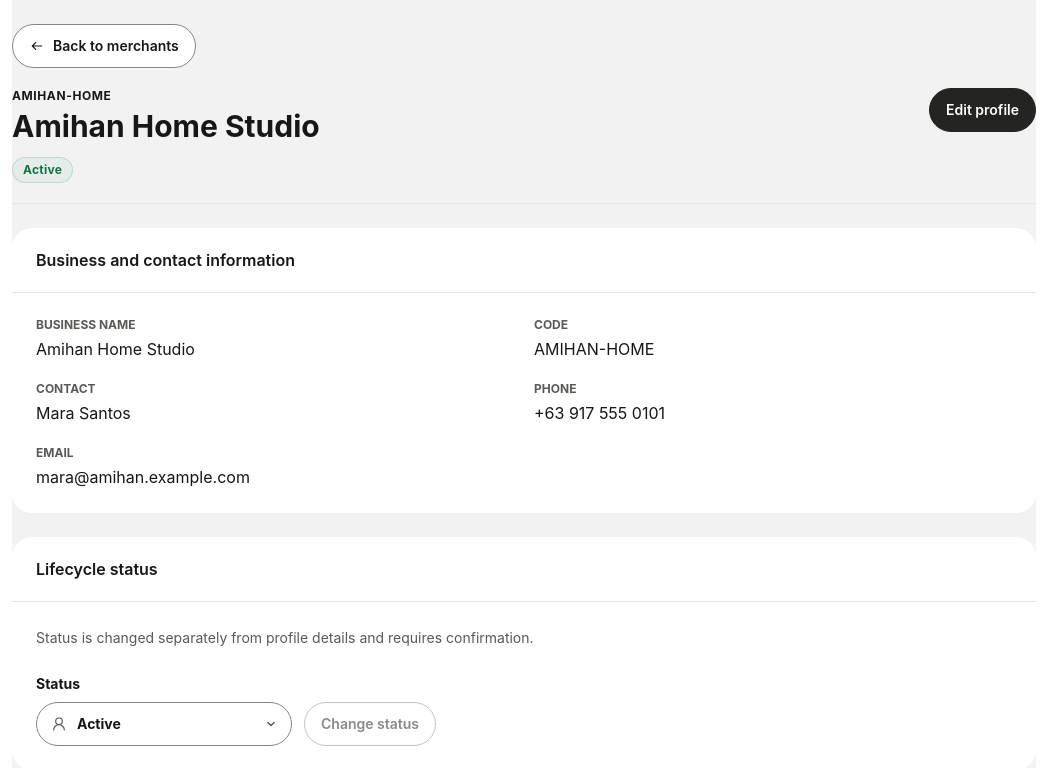
Scenario: MerchantProfile › displays profile information and opens profile editing
Check: the text "Mara Santos" is shown, box x1=36 y1=403 x2=131 y2=423
Step 1. Click the button "Edit profile" → (982,110), box x1=929 y1=88 x2=1036 y2=132
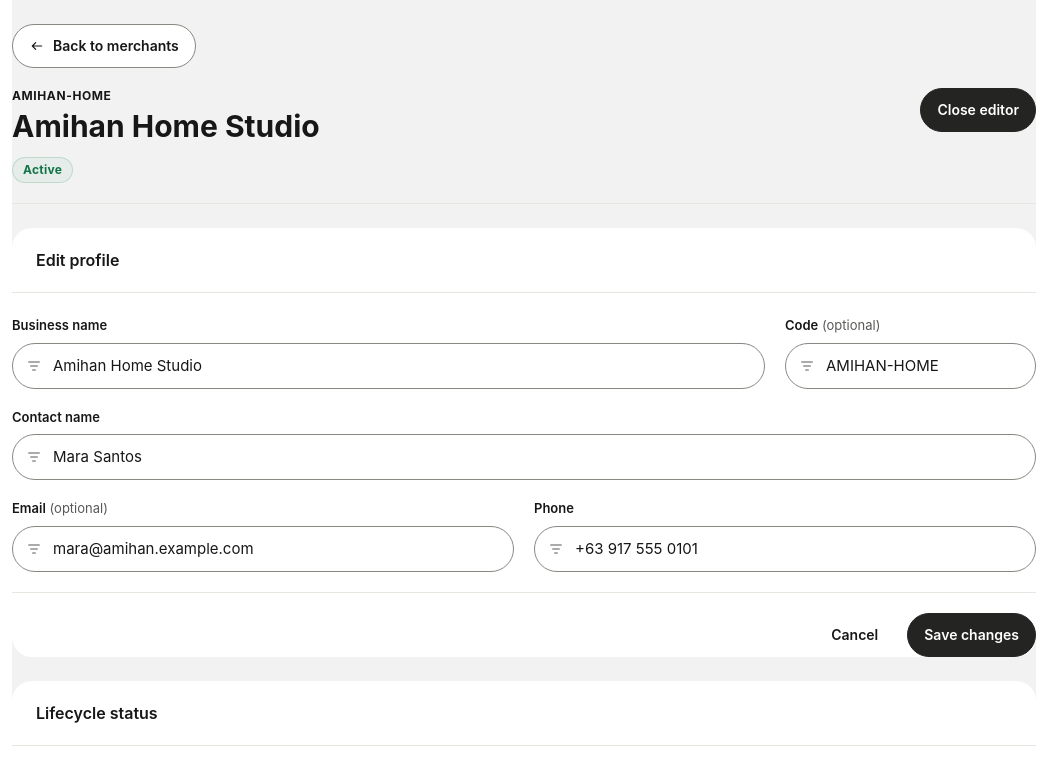
Check: the heading "Edit profile" is shown, box x1=36 y1=248 x2=119 y2=272
